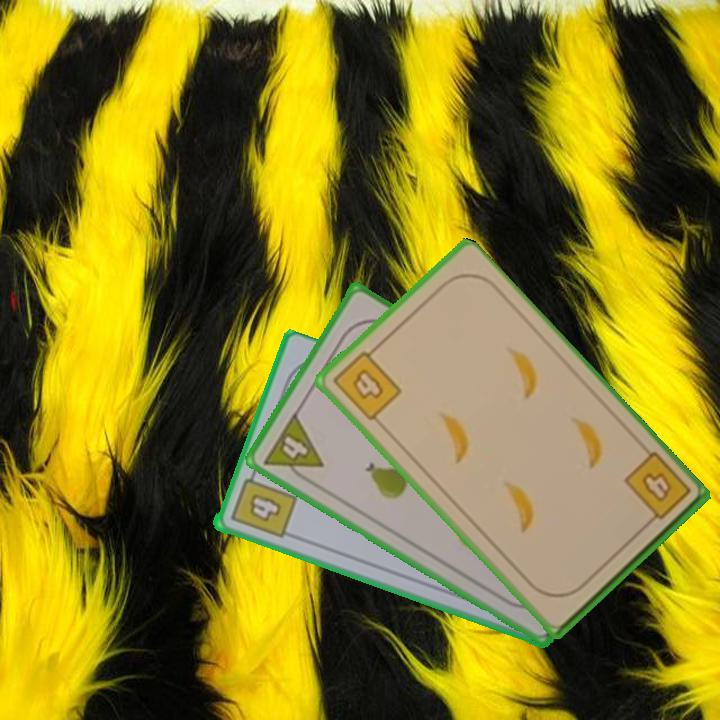4b: (328, 342, 405, 424), (620, 448, 694, 530), (226, 466, 299, 541)
4p: (259, 409, 326, 488)
